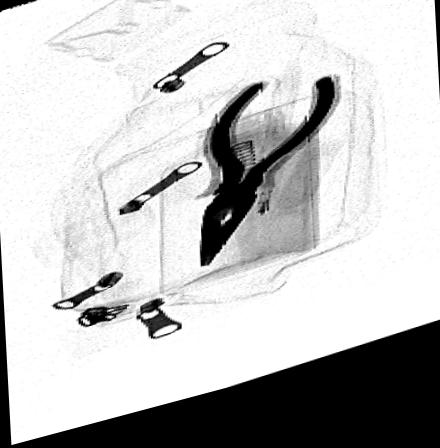Pliers: (200, 89, 339, 280)
